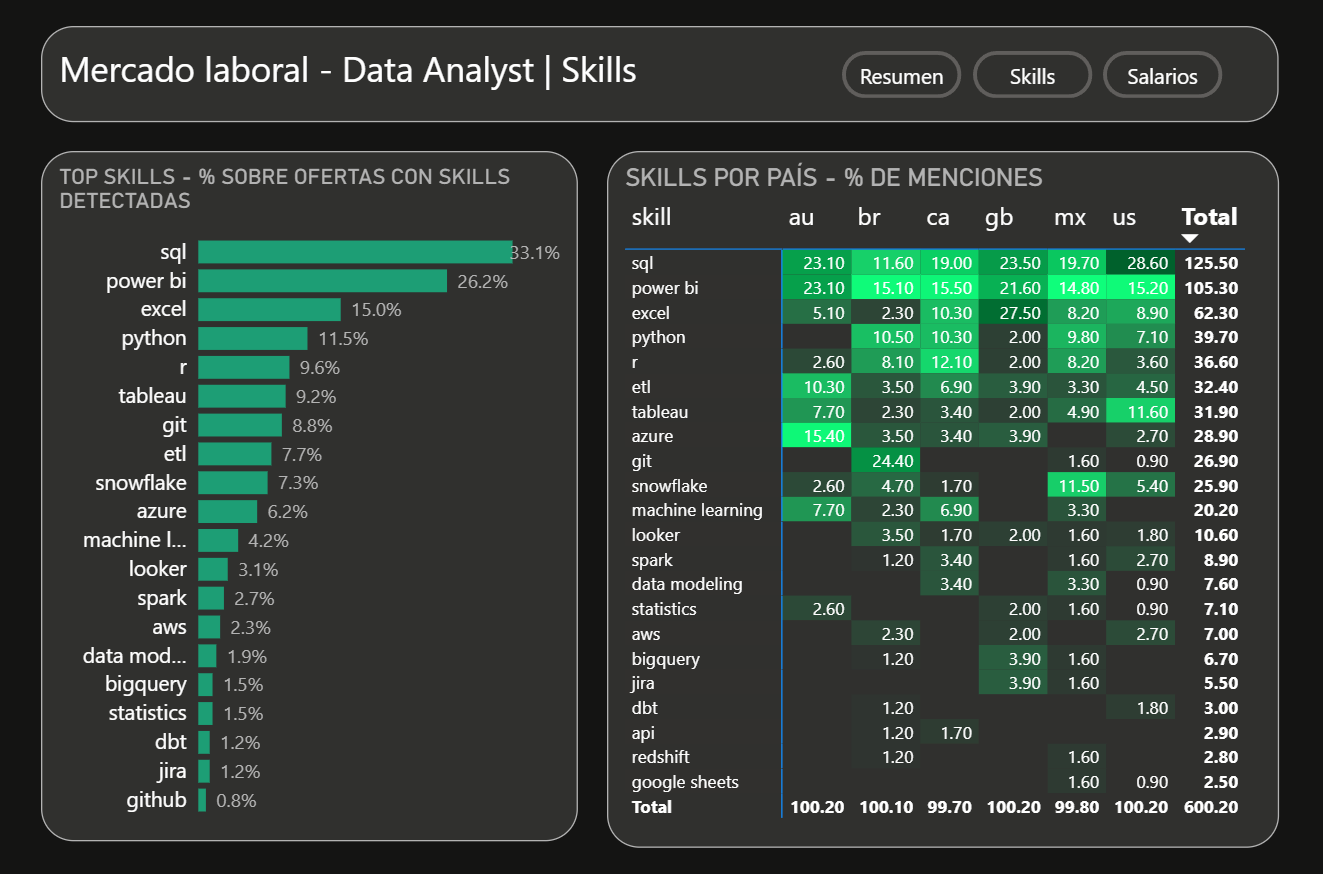

The dashboard page shown, as its layout file describes it:
{"tool":"powerbi","page":{"name":"Skills","canvas":[1020,675],"ordinal":1},"visuals":[{"type":"clusteredBarChart","title":"TOP SKILLS - % SOBRE OFERTAS CON SKILLS DETECTADAS","fields":{"Category":["1_skills_aggregated.skill"],"Y":["Sum(1_skills_aggregated.pct_con_skills)"]},"box":[32.2,116.7,413.3,531.1],"z":0},{"type":"pivotTable","title":"SKILLS POR PAÍS - % DE MENCIONES","fields":{"Rows":["4_skills_by_country.skill"],"Values":["Sum(4_skills_by_country.pct)"],"Columns":["4_skills_by_country.country"]},"box":[467.8,116.7,516.7,535.6],"z":1000},{"type":"textbox","box":[32.2,21.1,952.2,74.4],"z":2001},{"type":"actionButton","title":"Resumen","box":[648.2,40,91.8,36.4],"z":2002},{"type":"actionButton","title":"Resumen","box":[749.1,40,91.8,36.4],"z":2003},{"type":"actionButton","title":"Resumen","box":[849.1,40,91.8,36.4],"z":2004}]}

Visuals, with their boxes in screenshot pixels (x1, y1, x2, y2), scaled from the page's 1020x675 canvas onto the 1323x874 screenshot:
"TOP SKILLS - % SOBRE OFERTAS CON SKILLS DETECTADAS" clusteredBarChart: x1=42, y1=151, x2=578, y2=839
"SKILLS POR PAÍS - % DE MENCIONES" pivotTable: x1=607, y1=151, x2=1277, y2=845
textbox: x1=42, y1=27, x2=1277, y2=124
"Resumen" actionButton: x1=841, y1=52, x2=960, y2=99
"Resumen" actionButton: x1=972, y1=52, x2=1091, y2=99
"Resumen" actionButton: x1=1101, y1=52, x2=1220, y2=99
